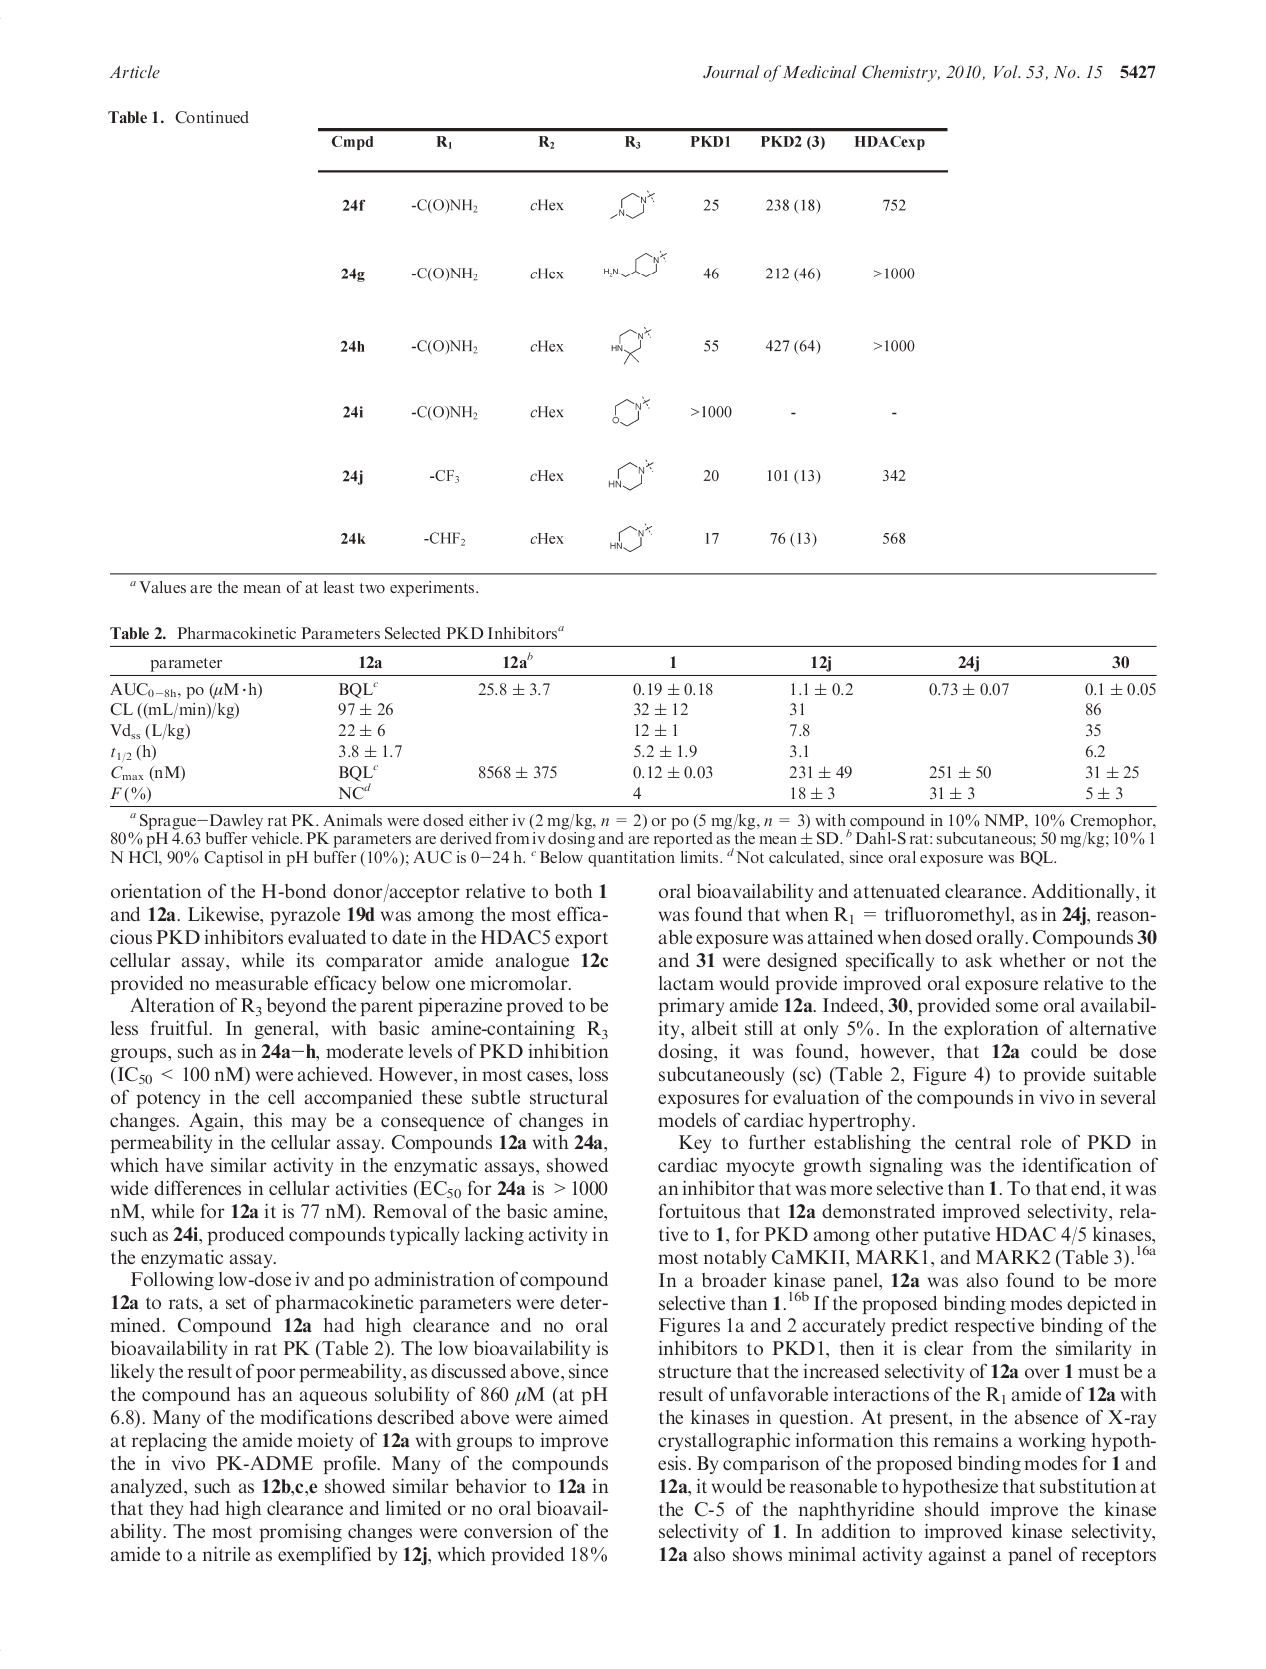exist_molecular: (590, 247, 676, 289), (601, 185, 664, 235), (602, 390, 662, 436), (605, 515, 668, 556), (602, 451, 657, 497), (602, 319, 654, 364)
